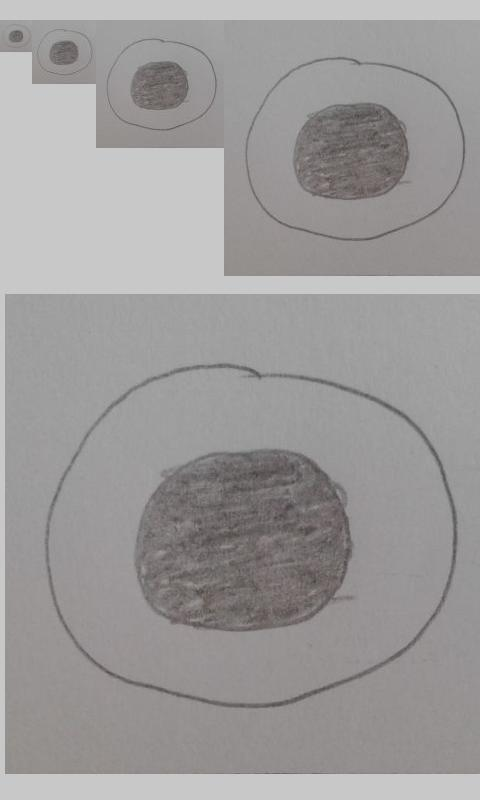radio_button: (40, 361, 462, 711), (242, 53, 469, 244), (105, 37, 218, 132), (36, 28, 94, 76), (2, 23, 31, 49)
